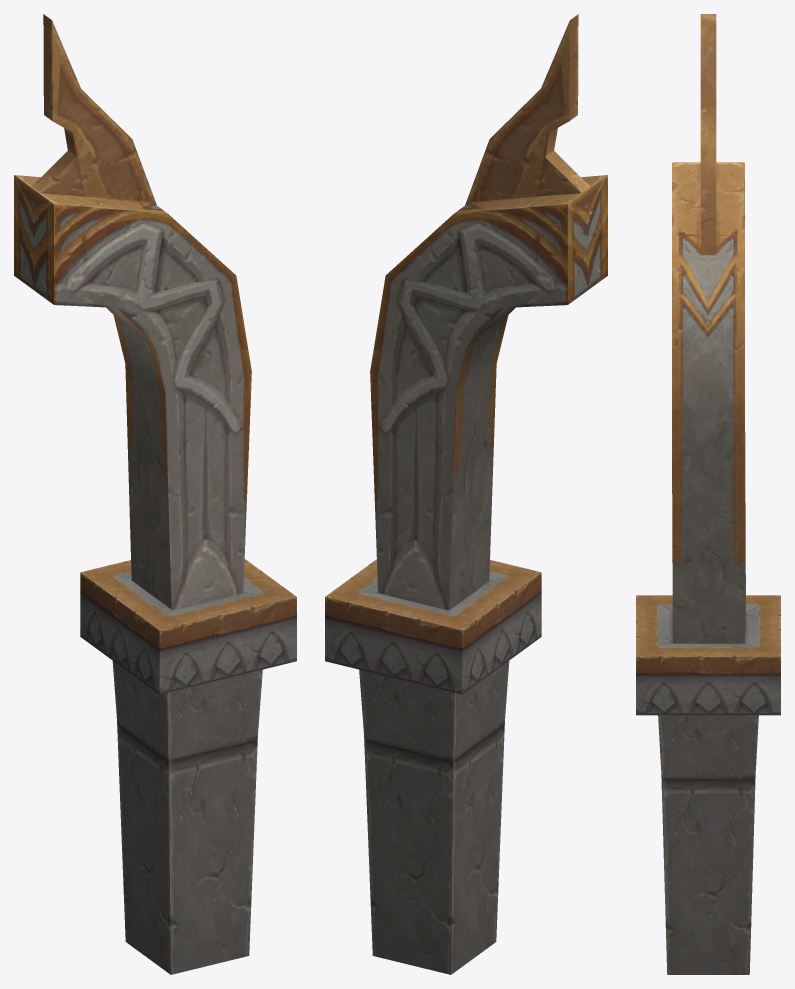
The model's file is common_city_xiaohuatai01.FBX.
3 views of the same model, side by side, from view 1: azimuth 30°, elevation 25°; view 2: azimuth 150°, elevation 25°; view 3: azimuth 270°, elevation 25° (orthographic). The views are drawn at different scales.
Visible parts, largest first — view 1: common_city_xiaohuatai01; view 2: common_city_xiaohuatai01; view 3: common_city_xiaohuatai01.
Boxes of the visible parts, <box> form: common_city_xiaohuatai01: <box>14,14,296,974</box>; common_city_xiaohuatai01: <box>325,14,607,974</box>; common_city_xiaohuatai01: <box>636,14,780,974</box>.
Bounding box in the file's own units: 3.93 × 16.24 × 2.42.
